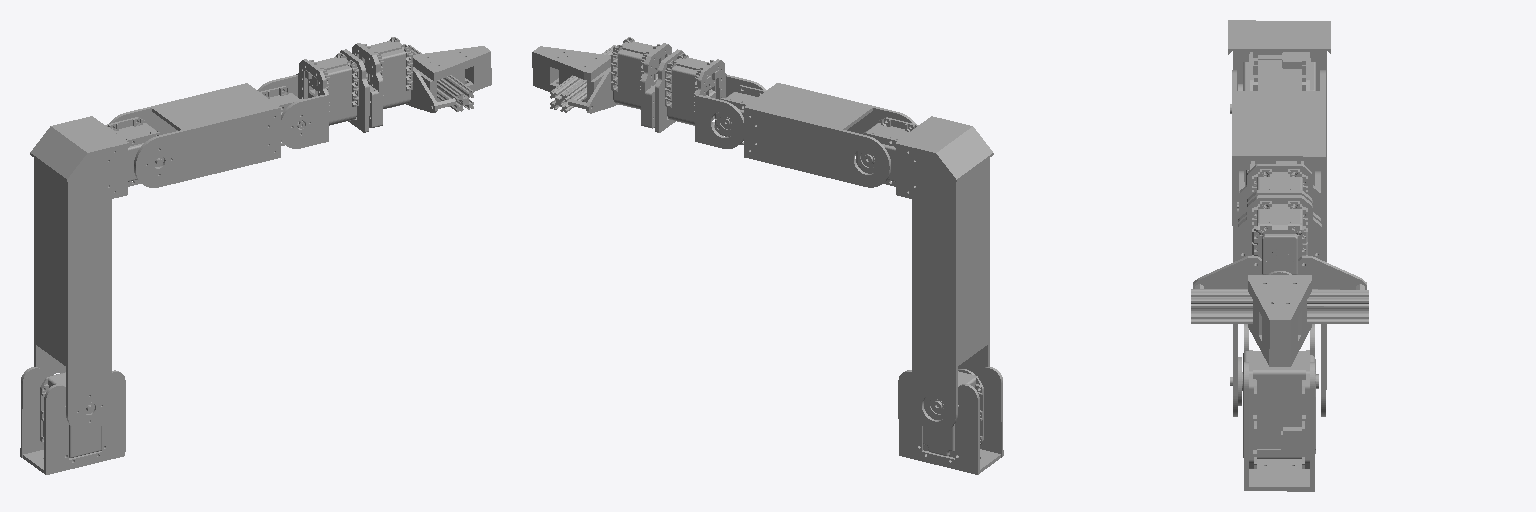
URDF robot description (angle_robot):
<?xml version="1.0" ?>
<robot name="angle_robot" xmlns:xacro="http://www.ros.org/wiki/xacro">
	<link name ="world"/>
	<joint name="ang_base" type="fixed">
		<parent link="world"/>
		<child link="ang_link0"/>
		<origin rpy = "0 0 1.57" xyz="0 0 0" />
	</joint>
	<link name="ang_link0">
		<visual>
			<geometry>
				<mesh filename="package://angle_arm_model/meshes/link1.stl" scale="0.001 0.001 0.001"/>
			</geometry>
			<material name="grey">
    				<color rgba="0.7 0.7 0.7 1.0"/>
  			</material>			
		</visual>
		
	</link>
	<joint name="ang_joint1" type="continuous">
		<parent link="ang_link0"/>
		<child link="ang_link1"/>
		<origin xyz = "0 0 0.107" rpy="1.57 0 -1.57" />
		<axis xyz="0 1 0" />
	</joint>

	<link name="ang_link1">
		<visual>
			<geometry>
				<mesh filename="package://angle_arm_model/meshes/link2.stl" scale="0.001 0.001 0.001"/>
			</geometry>
			<material name="grey">
    				<color rgba="0.7 0.7 0.7 1.0"/>
  			</material>
		</visual>
	</link>
	<joint name="ang_joint2" type="continuous">
		<parent link="ang_link1"/>
		<child link="ang_link2"/>
		<origin xyz = "0 0.0518 0" rpy="0 0 0" />
		<axis xyz="0 0 1" />
	</joint>

	<link name="ang_link2">
		<visual>
			<geometry>
				<mesh filename="package://angle_arm_model/meshes/link3.stl" scale="0.001 0.001 0.001"/>
			</geometry>
			<material name="grey">
    				<color rgba="0.7 0.7 0.7 1.0"/>
  			</material>
		</visual>
	</link>

	<joint name="ang_joint3" type="continuous">
		<parent link="ang_link2"/>
		<child link="ang_link3"/>
		<origin xyz = "0.0626 0.1989 0" rpy="0 0 0" />
		<axis xyz="0 0 1" />
	</joint>

	<link name="ang_link3">
		<visual>
			<geometry>
				<mesh filename="package://angle_arm_model/meshes/link4.stl" scale="0.001 0.001 0.001"/>
			</geometry>
			<material name="grey">
    				<color rgba="0.7 0.7 0.7 1.0"/>
  			</material>
		</visual>
	</link>

	<joint name="ang_joint4" type="continuous">
		<parent link="ang_link3"/>
		<child link="ang_link4"/>
		<origin xyz = "0.13093 0 0" rpy="-1.57 0 1.57" />
		<axis xyz="0 -1 0" />
	</joint>

	<link name="ang_link4">
		<visual>
			<geometry>
				<mesh filename="package://angle_arm_model/meshes/link5.stl" scale="0.001 0.001 0.001"/>
			</geometry>
			<material name="grey">
    				<color rgba="0.7 0.7 0.7 1.0"/>
  			</material>
		</visual>
	</link>

	<joint name="ang_joint5" type="continuous">
		<parent link="ang_link4"/>
		<child link="ang_link5"/>
		<origin xyz = "0 0 -0.06174" rpy="0 0 0" />
		<axis xyz="0 0 -1" />
	</joint>

	<link name="ang_link5">
		<visual>
			<geometry>
				<mesh filename="package://angle_arm_model/meshes/link6.stl" scale="0.001 0.001 0.001"/>
			</geometry>
			<material name="grey">
    				<color rgba="0.7 0.7 0.7 1.0"/>
  			</material>
		</visual>
	</link>

	<joint name="ang_gripper" type="prismatic">
		<parent link="ang_link5"/>
		<child link="ang_link6"/>
		<origin xyz = "0 0 -0.0715" rpy="1.57 3.14 0" />
		<axis xyz="0 0 1" />
		<limit effort="3" lower="0" upper="0.025" velocity="0.05"/>
	</joint>

	<link name="ang_link6">
		<visual>
			<geometry>
				<mesh filename="package://angle_arm_model/meshes/link7.stl" scale="0.001 0.001 0.001"/>
			</geometry>
			<material name="grey">
    				<color rgba="0.7 0.7 0.7 1.0"/>
  			</material>
		</visual>
	</link>
	<joint name="ang_gripper_sub" type="prismatic">
		<parent link="ang_link5"/>
		<child link="ang_link7"/>
		<origin xyz = "0 0 -0.0715" rpy="-1.57 0 0" />
		<axis xyz="0 0 1" />
		<limit effort="3" lower="0" upper="0.025" velocity="0.05"/>
	        <mimic joint="ang_gripper" multiplier="1" offset="0"/>
	</joint>
	<link name="ang_link7">
		<visual>
			<geometry>
				<mesh filename="package://angle_arm_model/meshes/link7.stl" scale="0.001 0.001 0.001"/>
			</geometry>
			<material name="grey">
    				<color rgba="0.7 0.7 0.7 1.0"/>
  			</material>
		</visual>
	</link>
	
	<link name="camera"/>
	<joint name="camera_joint" type="fixed">
		<parent link="ang_link4"/>
		<child link="camera"/>
		<origin rpy = "1.57 0 -1.57" xyz="-0.040 0.035 -0.070" />
	</joint>
</robot>

--- Facts derived from the render (not from the file) ---
3 views of the same robot in one strip: view 1: azimuth 30°, elevation 25°; view 2: azimuth 150°, elevation 25°; view 3: azimuth 270°, elevation 25° (orthographic).
Robot: angle_robot — 10 links, 9 joints (5 continuous, 2 prismatic, 2 fixed); root link world; default pose: every joint at zero.
Links seen in each view (by area): view 1: ang_link2, ang_link3, ang_link1, ang_link4, ang_link5, ang_link6, ang_link7; view 2: ang_link2, ang_link3, ang_link1, ang_link4, ang_link5, ang_link7, ang_link6; view 3: ang_link5, ang_link1, ang_link2, ang_link3, ang_link4, ang_link7, ang_link6.
Boxes of the visible links, x1,y1,x2,y2 form: ang_link2: [30, 116, 163, 432]; ang_link3: [109, 83, 304, 187]; ang_link1: [20, 367, 125, 474]; ang_link4: [257, 49, 369, 148]; ang_link5: [352, 37, 473, 127]; ang_link6: [419, 48, 491, 101]; ang_link7: [413, 46, 486, 79]; ang_link2: [856, 116, 993, 431]; ang_link3: [715, 83, 915, 187]; ang_link1: [898, 367, 1003, 474]; ang_link4: [655, 49, 766, 148]; ang_link5: [550, 37, 671, 128]; ang_link7: [532, 49, 603, 102]; ang_link6: [537, 46, 610, 79]; ang_link5: [1191, 195, 1368, 323]; ang_link1: [1230, 324, 1318, 491]; ang_link2: [1228, 20, 1330, 416]; ang_link3: [1232, 70, 1325, 225]; ang_link4: [1238, 164, 1320, 223]; ang_link7: [1280, 275, 1311, 366]; ang_link6: [1248, 275, 1279, 366].
Bounding box of the posed robot: 0.4118 × 0.1 × 0.2904 m (x, y, z).
7 mesh visuals loaded from 7 distinct referenced files (6 binary STL); not drawn: 1 (reference not matched to a file when rendering).